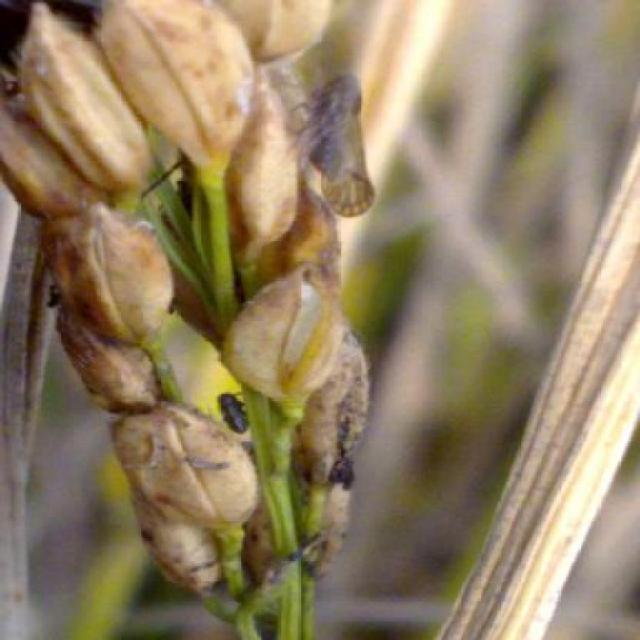brown-planthopper: (304, 71, 378, 217)
